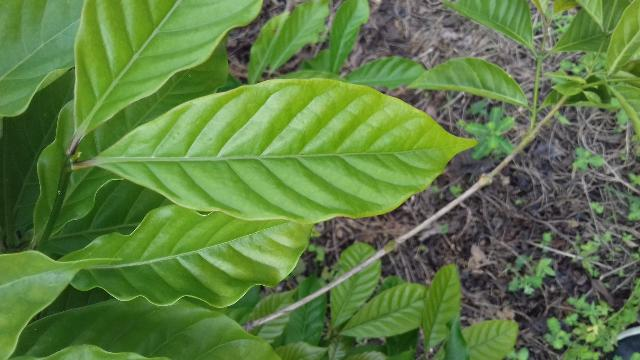healthy: (98, 79, 476, 220)
